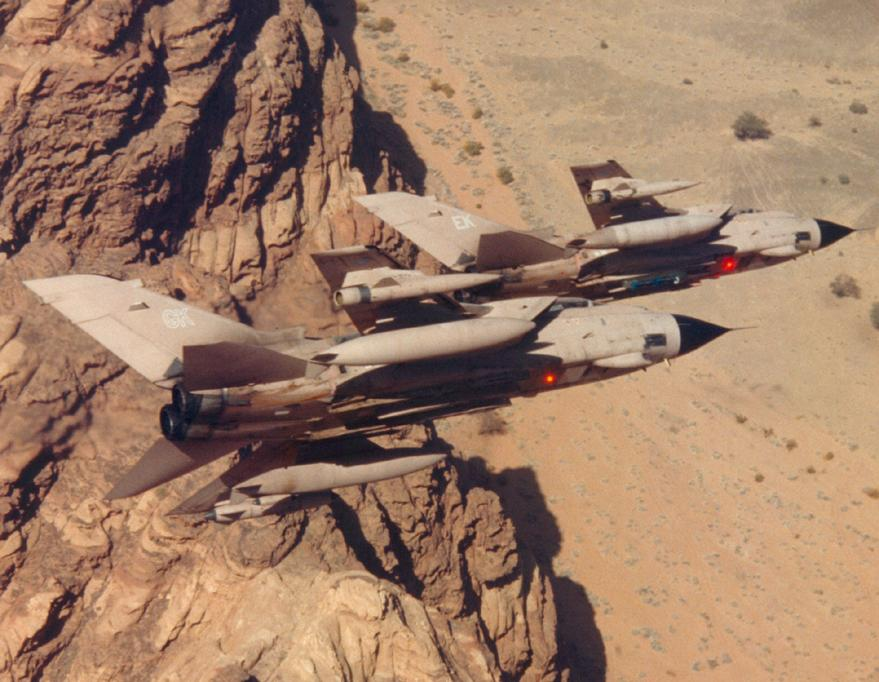Tornado: (21, 244, 759, 526), (350, 158, 876, 304)
